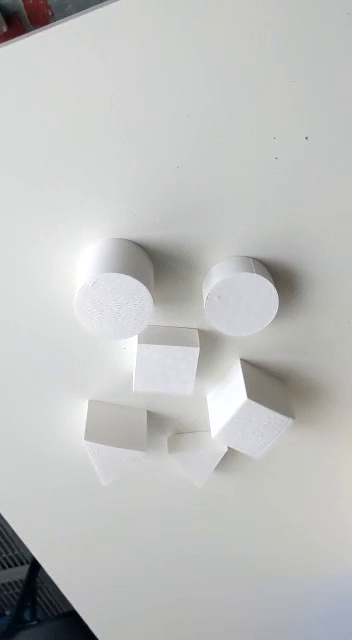Clyinder_short: (196, 253, 281, 340)
Cube: (203, 359, 300, 471)
Cube_short: (128, 316, 206, 402)
Cylinder: (75, 234, 158, 343)
Triangle: (77, 394, 158, 490)
Triangle_short: (163, 427, 229, 487)
